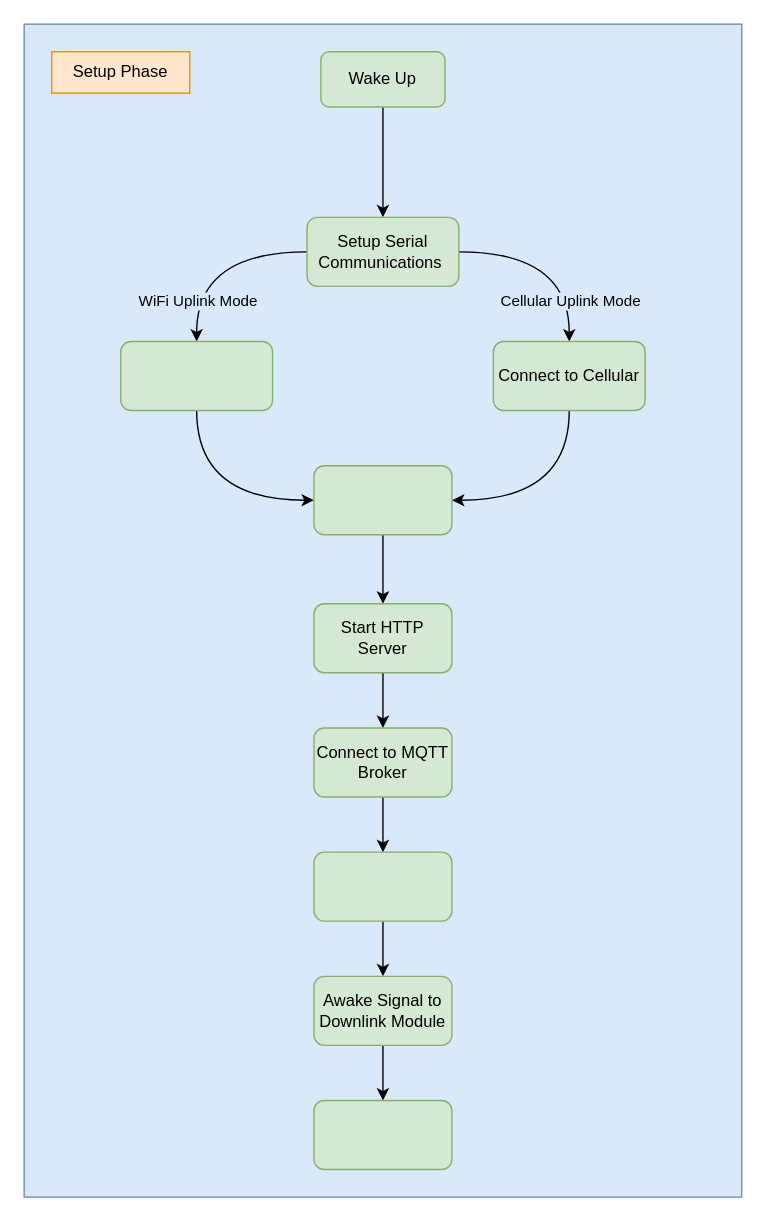
The diagram is 766 pixels wide and 1221 high, and some of its shapes have lost their labels. Here are the shapes that lost their labels. From the top down, the centre of each, then its label:
At [196,375]: "Connect to WiFi".
At [382,499]: "Create WiFi Access Point".
At [382,886]: "Initialize Sleep Timer".
At [382,1134]: "Enter Active Phase".
